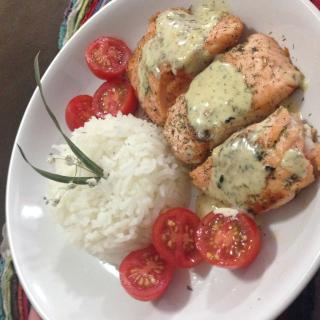tomato: (192, 207, 261, 266), (118, 245, 180, 304), (151, 206, 203, 270), (91, 76, 137, 115), (85, 44, 136, 78), (64, 95, 99, 132)
